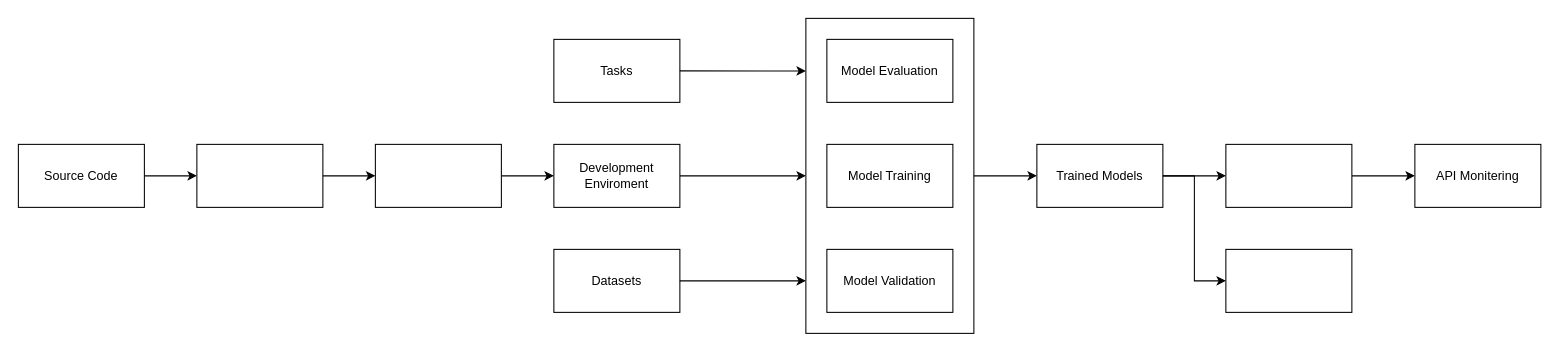
Image size: 1559x352. Some labels were removed from this diagram. Each missing label, with the centre of its shape:
CI: point (437, 175)
Model Registry: point (1288, 280)
Model Serving API: point (1288, 175)
Source Repository: point (259, 175)
